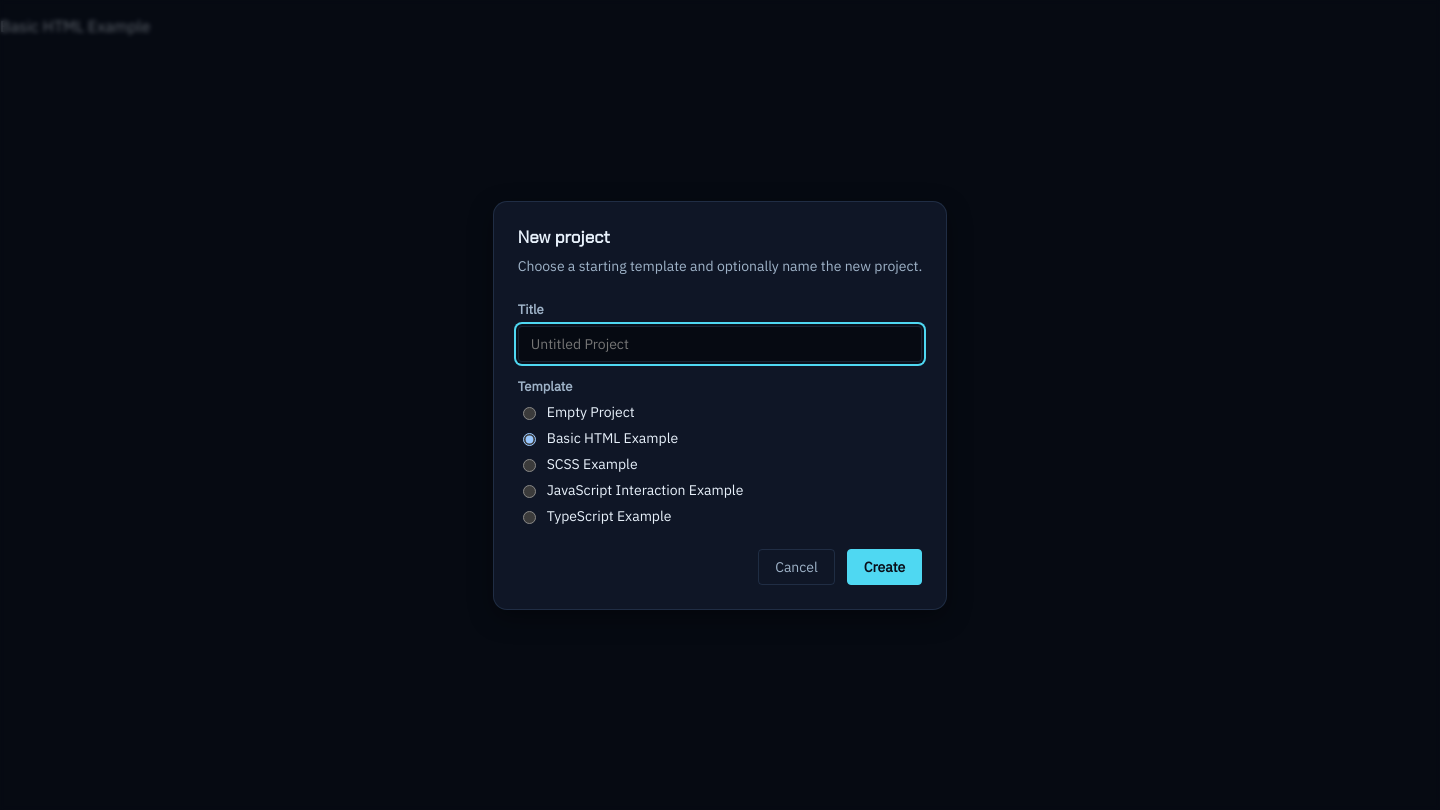
Test case: NewProjectDialog › creates a project with the entered title and selected template
In the field labelled "Title": (720, 344) [518,326,922,362], type "My New Project"
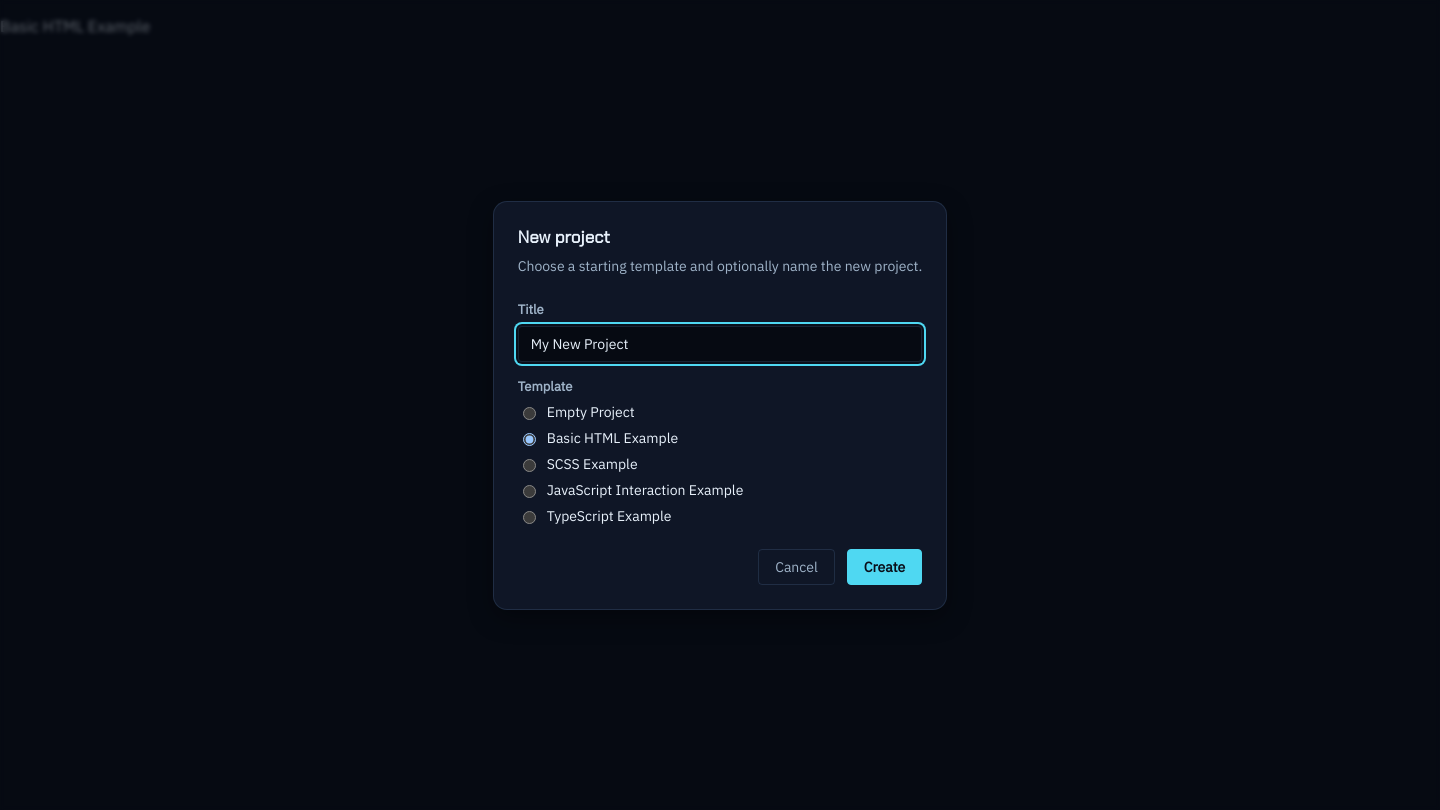
Click the radio button labelled "Empty Project": (529, 413) [523,406,536,420]
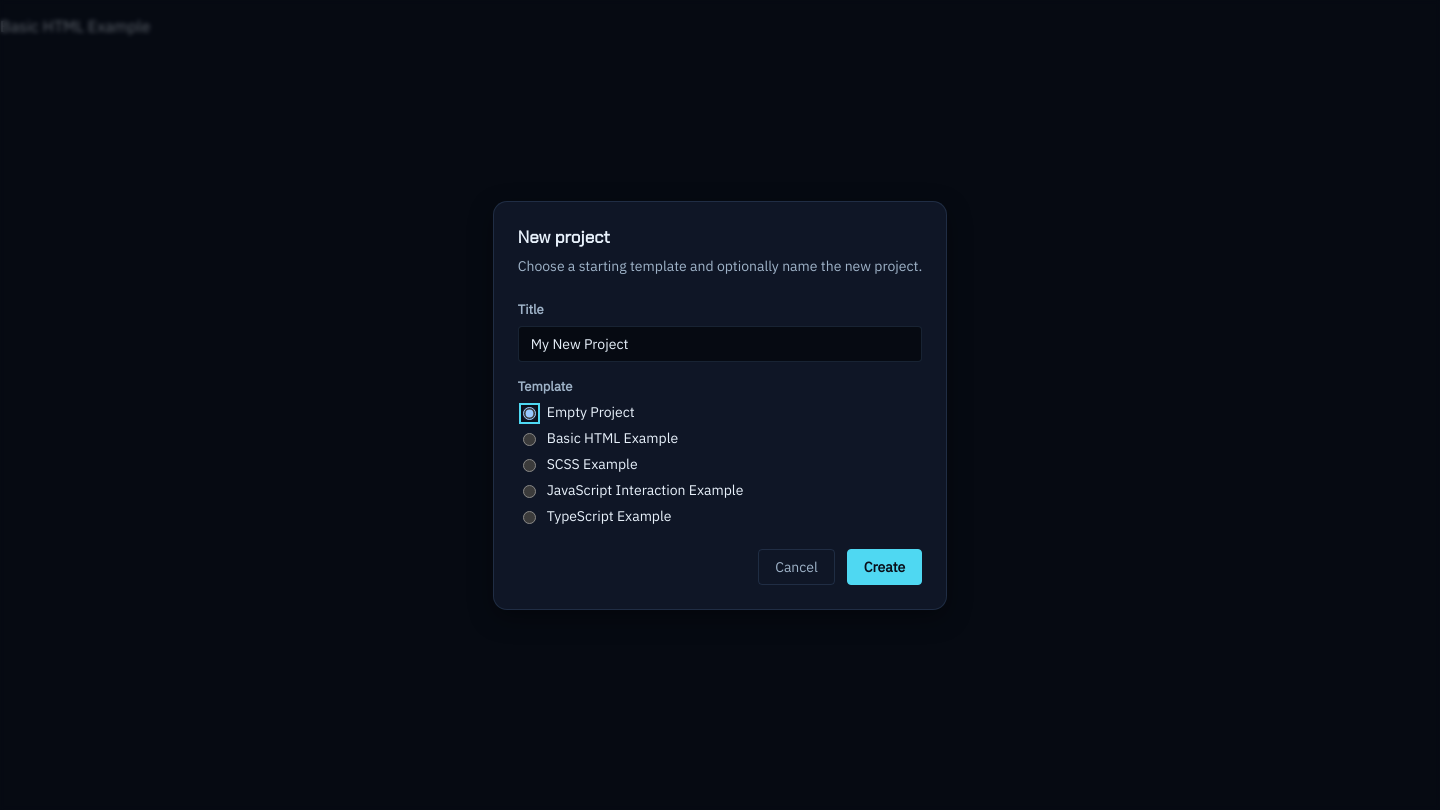
Click the button "Create": (885, 566) [847,548,922,584]
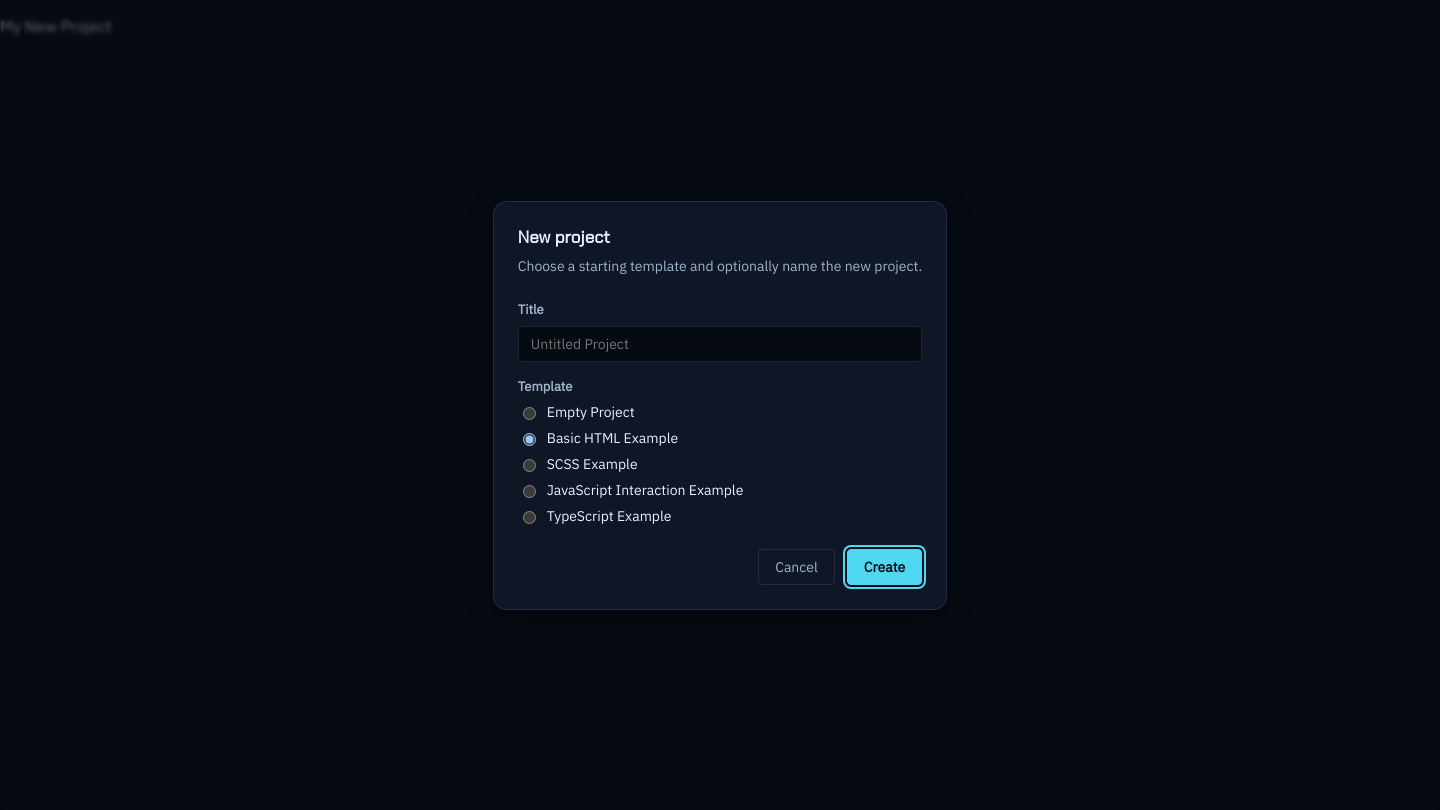
Check: the text with test id "active-title" reads "My New Project", box [0,16,112,36]
